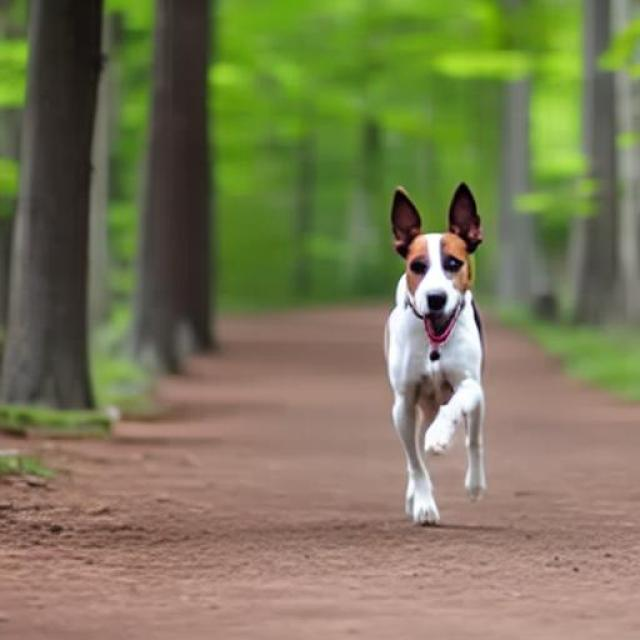Dog: (384, 180, 488, 524)
